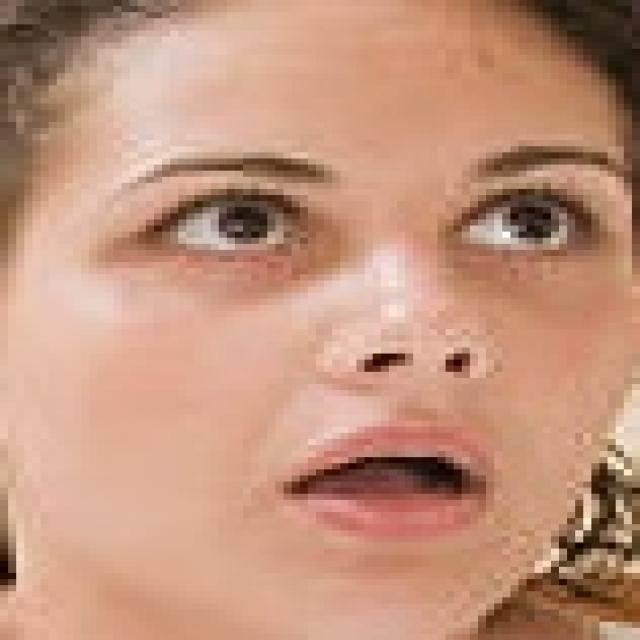Anxiety: (0, 0, 632, 634)
